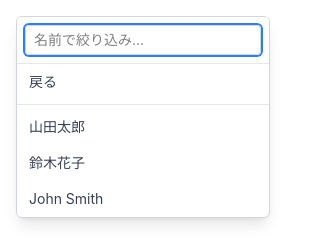
Scenario: ContextMenu › 検索フィルター › 大文字小文字を区別せずにフィルタリングする
Step 1. Type "john" into the field with placeholder "名前で絞り込み..." → [143, 40], box [25,25,261,55]
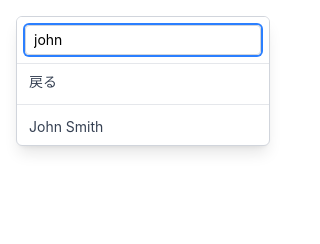
Check: the text "John Smith" is shown, box [29,117,103,137]
Check: the menu item "山田太郎" is gone
Check: the menu item "鈴木花子" is gone
